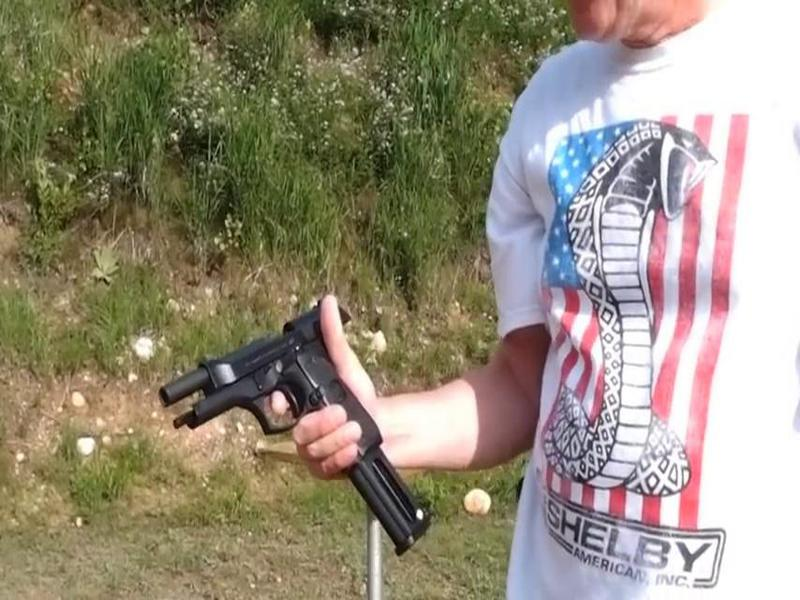Pistola: (157, 284, 429, 496)
